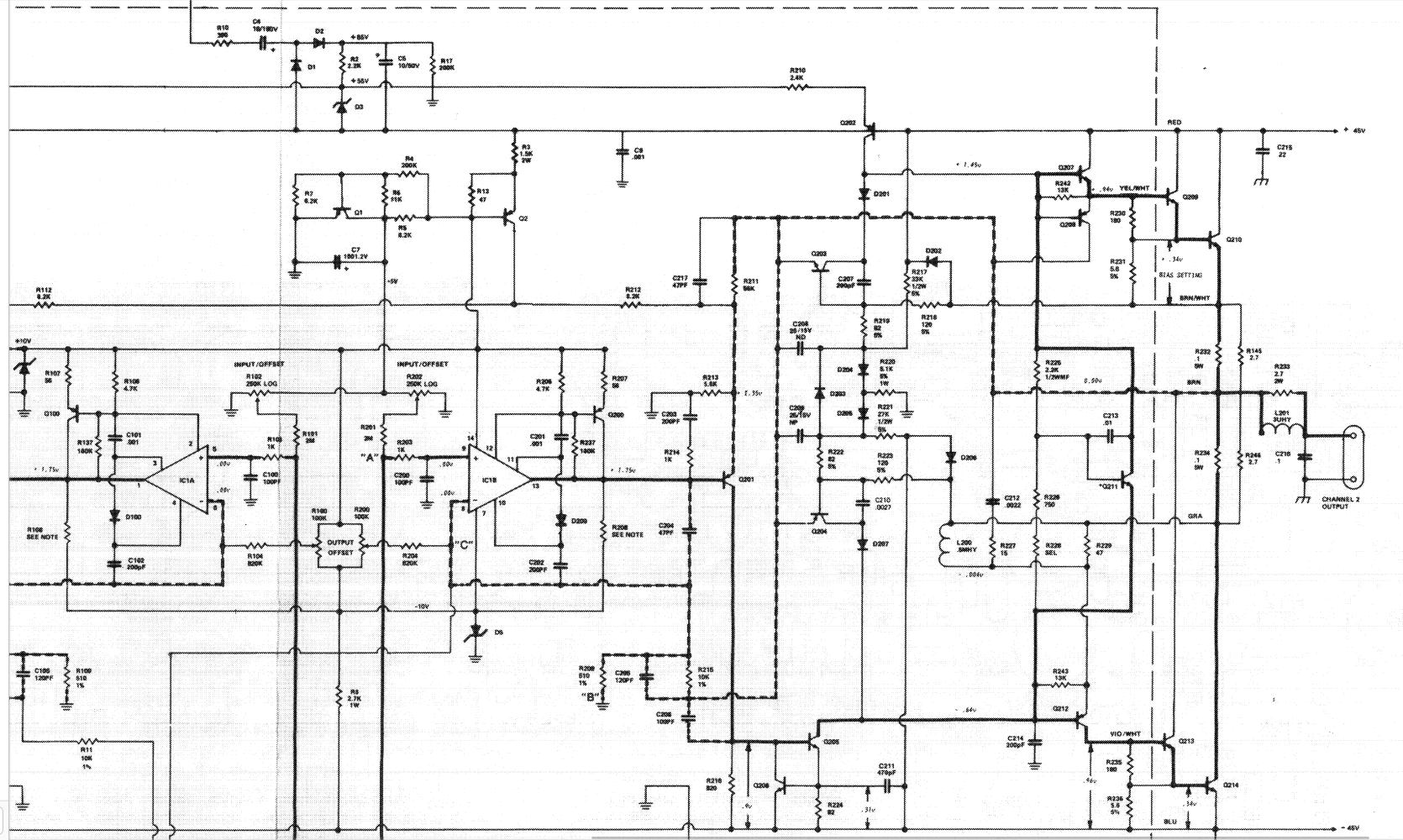compo_name: (868, 445, 896, 489), (1315, 492, 1358, 518), (1045, 658, 1074, 693), (1155, 265, 1205, 285), (903, 261, 930, 298), (913, 305, 939, 343), (873, 352, 896, 392), (1267, 355, 1295, 386), (395, 355, 452, 370), (1104, 250, 1127, 286), (696, 372, 722, 403), (1188, 443, 1210, 479), (1101, 753, 1138, 773), (1039, 352, 1066, 379), (869, 311, 893, 341), (694, 659, 717, 690), (872, 397, 894, 429), (948, 153, 987, 171), (1097, 177, 1150, 190), (345, 680, 365, 714), (822, 442, 846, 470), (1039, 535, 1067, 559), (784, 397, 807, 426), (864, 428, 901, 446), (1096, 406, 1123, 430), (1001, 733, 1033, 753), (574, 659, 596, 688), (243, 355, 285, 370), (1087, 537, 1117, 558), (403, 372, 440, 389), (1270, 442, 1296, 466), (1189, 340, 1216, 363), (1101, 789, 1128, 812), (518, 137, 536, 171), (392, 53, 424, 72), (398, 546, 423, 570), (323, 541, 358, 558), (1262, 385, 1297, 402), (247, 13, 280, 31), (738, 271, 762, 295), (785, 315, 816, 333), (738, 383, 767, 402), (1106, 724, 1145, 738), (1050, 186, 1075, 207), (1079, 369, 1109, 386), (610, 528, 644, 543), (433, 55, 461, 73), (956, 449, 983, 467), (922, 252, 943, 275), (1342, 123, 1372, 139), (993, 536, 1019, 554), (833, 273, 864, 288), (343, 71, 372, 87), (323, 533, 356, 547), (1242, 342, 1267, 360), (667, 267, 692, 285), (607, 371, 632, 389), (1053, 157, 1085, 171), (297, 190, 323, 207), (869, 535, 895, 552), (1177, 292, 1211, 305), (1106, 205, 1126, 227), (620, 279, 644, 297), (921, 242, 946, 259), (577, 436, 598, 456), (343, 246, 371, 261), (1055, 218, 1083, 233), (819, 795, 848, 809), (873, 757, 900, 772), (806, 243, 833, 258), (833, 405, 858, 421), (870, 186, 895, 202), (653, 517, 676, 534), (811, 444, 824, 474), (1181, 373, 1206, 388), (397, 155, 422, 170), (340, 56, 365, 71), (657, 410, 683, 424), (242, 373, 270, 386), (175, 471, 199, 486), (750, 778, 774, 793), (819, 734, 843, 749), (385, 186, 406, 203), (349, 503, 371, 519), (526, 429, 548, 445), (1094, 480, 1121, 493), (470, 181, 495, 195), (531, 382, 556, 396), (434, 459, 462, 471), (345, 27, 373, 39), (391, 473, 413, 488), (1272, 140, 1297, 153), (477, 473, 500, 487), (785, 63, 811, 75), (515, 212, 536, 226), (305, 500, 329, 512), (1179, 191, 1203, 203), (1222, 232, 1246, 244), (1219, 779, 1243, 791), (1164, 115, 1186, 128), (301, 429, 321, 443), (389, 453, 412, 465), (392, 433, 415, 445), (395, 231, 418, 243), (120, 510, 145, 521), (523, 553, 548, 564), (1001, 501, 1026, 512), (953, 545, 980, 555), (808, 525, 830, 537), (438, 485, 461, 496), (356, 419, 379, 430), (607, 519, 630, 530), (787, 73, 810, 84), (702, 775, 725, 786), (859, 802, 880, 814), (309, 24, 327, 38), (301, 60, 320, 73), (1050, 704, 1072, 715), (260, 474, 280, 486), (661, 446, 681, 458), (1160, 816, 1180, 828), (301, 423, 322, 434), (347, 206, 368, 217), (213, 484, 234, 495), (735, 474, 756, 485), (1184, 511, 1205, 522), (1040, 491, 1063, 501), (628, 154, 651, 164), (1176, 736, 1199, 746), (123, 553, 148, 562), (651, 717, 676, 726), (605, 410, 627, 420), (612, 667, 632, 678), (11, 336, 35, 345), (1275, 150, 1293, 162), (612, 676, 636, 685), (39, 532, 60, 542), (122, 376, 143, 386), (33, 284, 54, 294), (1271, 415, 1292, 425), (213, 31, 234, 41), (828, 389, 849, 399), (1165, 253, 1184, 264), (263, 432, 280, 444), (41, 409, 61, 419), (260, 454, 280, 464), (124, 430, 144, 440), (74, 446, 94, 456), (32, 665, 52, 675), (534, 376, 554, 386), (33, 292, 55, 301), (873, 503, 895, 512), (1042, 501, 1061, 511), (396, 223, 415, 233), (703, 784, 722, 794), (120, 385, 141, 394), (75, 437, 96, 446), (954, 538, 975, 547), (653, 709, 674, 718), (837, 364, 854, 375), (253, 388, 276, 396), (33, 674, 56, 682), (40, 366, 60, 375), (74, 666, 94, 675), (245, 560, 265, 569), (872, 495, 892, 504), (245, 551, 264, 560), (1272, 407, 1291, 416), (630, 144, 647, 154), (965, 570, 986, 578), (78, 744, 96, 753), (215, 20, 231, 30), (793, 333, 809, 343), (124, 438, 142, 446), (79, 753, 95, 762), (1003, 493, 1021, 501), (1243, 451, 1263, 458), (1248, 458, 1262, 468), (73, 674, 90, 682), (825, 808, 836, 816)
